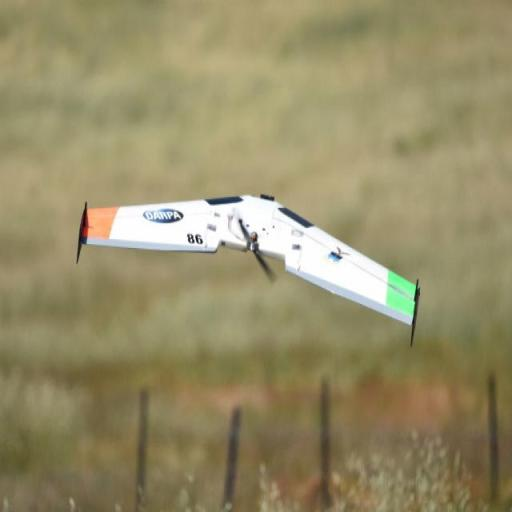uav: (70, 179, 432, 351)
